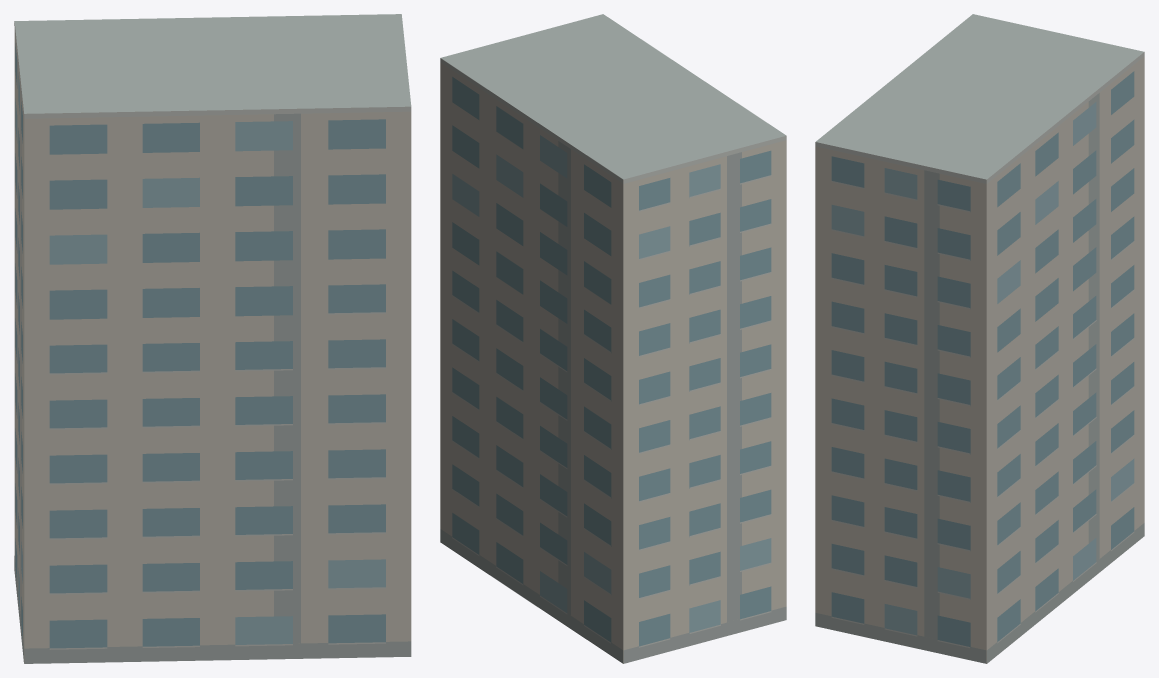
File: residential-1c740fe9-150e-4c1d-a538-067895b3a4d7.glb
3 views of the same model, side by side, from view 1: azimuth 30°, elevation 25°; view 2: azimuth 150°, elevation 25°; view 3: azimuth 270°, elevation 25° (orthographic). The views are drawn at different scales.
Visible parts, largest first — view 1: residential-1c740fe9-150e-4c1d-a538-067895b3a4d7.tmp; view 2: residential-1c740fe9-150e-4c1d-a538-067895b3a4d7.tmp; view 3: residential-1c740fe9-150e-4c1d-a538-067895b3a4d7.tmp.
Part boxes in pixels (left/top/right/bottom): residential-1c740fe9-150e-4c1d-a538-067895b3a4d7.tmp: left=14, top=14, right=411, bottom=663; residential-1c740fe9-150e-4c1d-a538-067895b3a4d7.tmp: left=440, top=14, right=786, bottom=663; residential-1c740fe9-150e-4c1d-a538-067895b3a4d7.tmp: left=815, top=14, right=1144, bottom=663.
Bounding box in the file's own units: 19.81 × 27 × 16.64.
